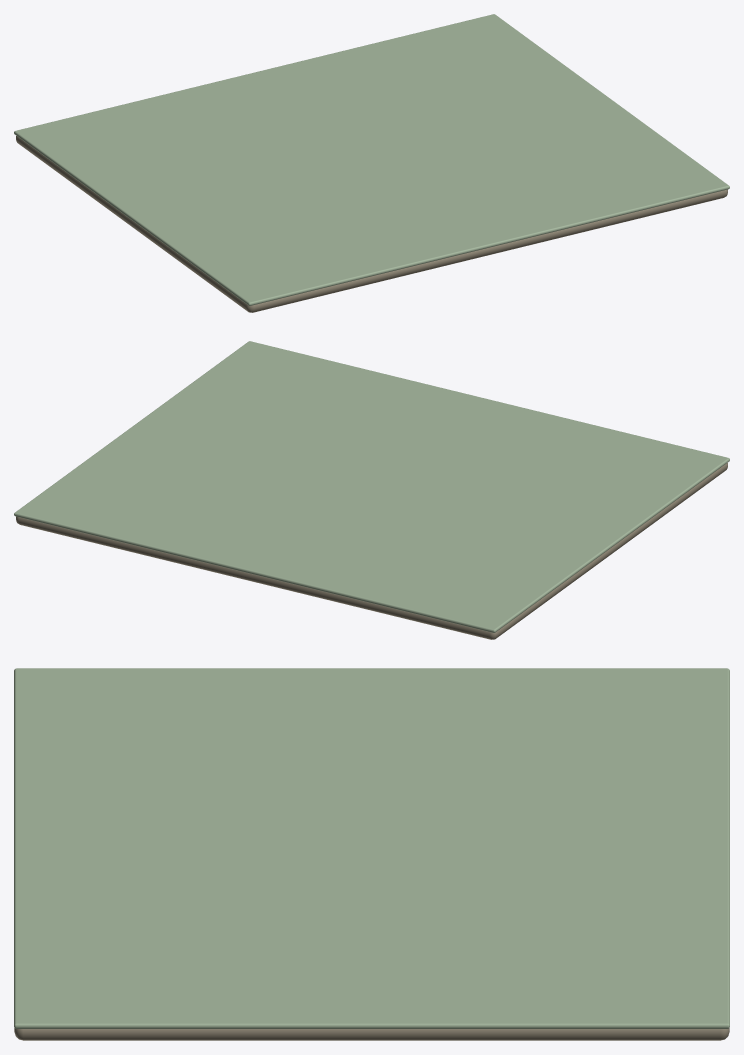
The model's file is island.glb.
3 renders of one model, top to bottom at view 1: azimuth 30°, elevation 25°; view 2: azimuth 150°, elevation 25°; view 3: azimuth 270°, elevation 25°, orthographic. The views are drawn at different scales.
Parts seen in each view (by area): view 1: Body_grass, Body_earth; view 2: Body_grass, Body_earth; view 3: Body_grass, Body_earth.
Part boxes in pixels (x1,y1,x2,y2): Body_grass: [14, 14, 729, 305]; Body_earth: [16, 136, 727, 312]; Body_grass: [14, 341, 729, 632]; Body_earth: [16, 463, 727, 639]; Body_grass: [14, 668, 729, 1028]; Body_earth: [14, 1028, 729, 1040].
Bounding box in the file's own units: 46.04 × 1.16 × 39.04.
